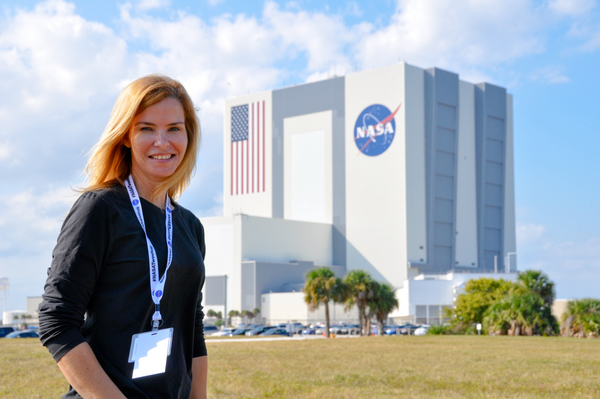NASA: (351, 99, 402, 159)
